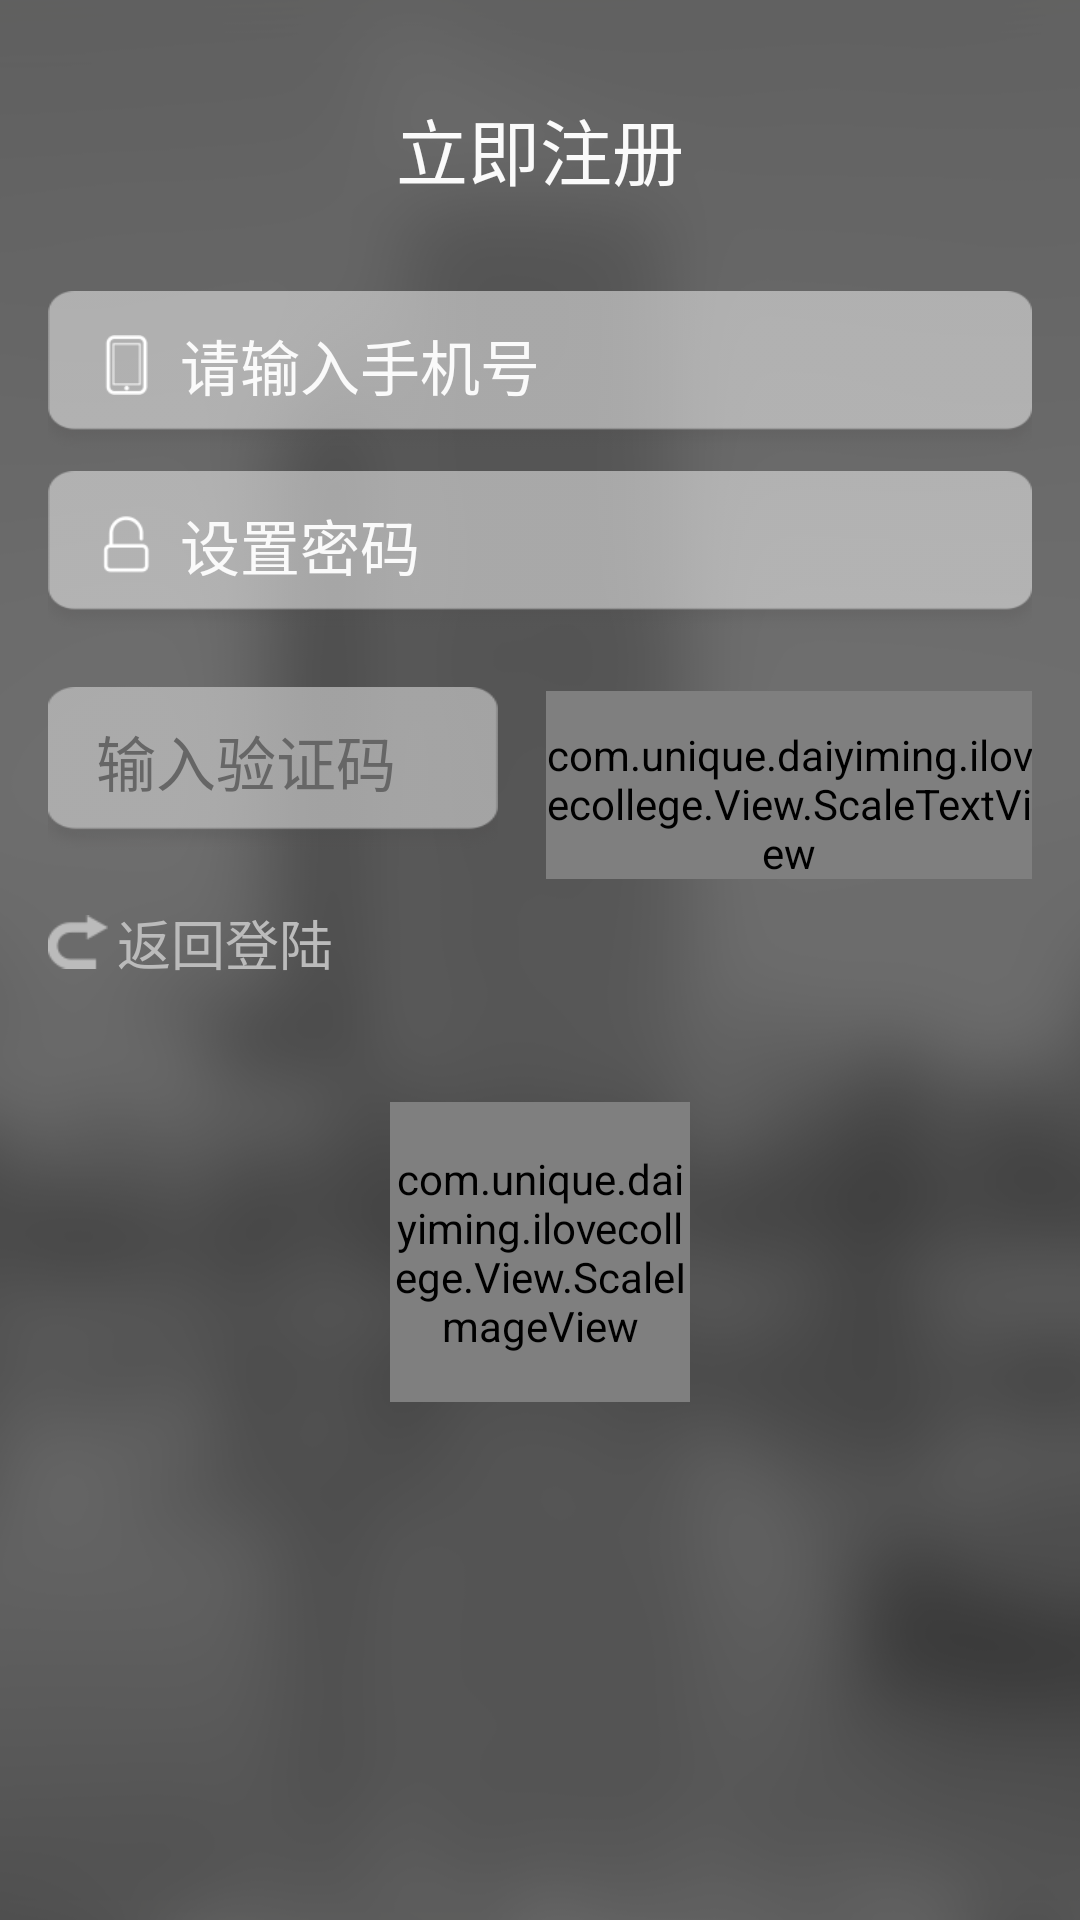

Point at icon controls on the screen. Image size 1080*1920, points as [x,y].
back to login: [77,942]
password: [126,544]
phone number: [126,365]
